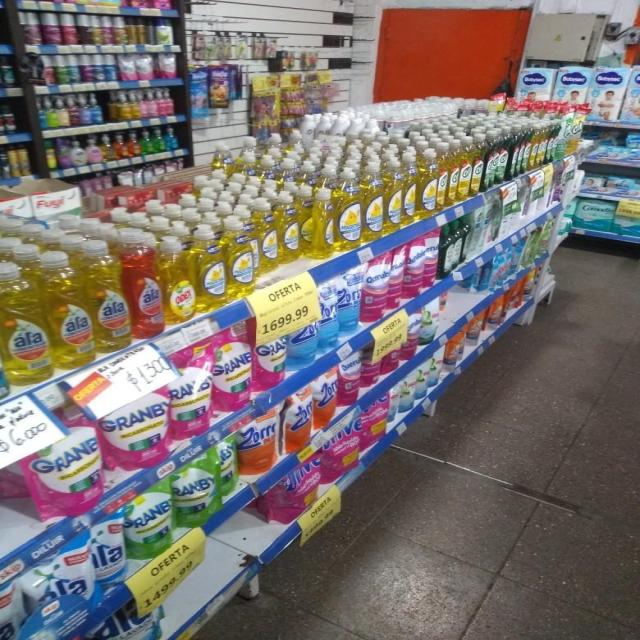ala_conc_amarillo: (0, 258, 49, 388), (51, 248, 93, 370), (92, 239, 130, 353)
ala_conc_rojo: (130, 235, 163, 339)
cif_conc_bot_amarilla: (459, 136, 472, 201), (438, 143, 449, 209), (472, 135, 484, 195), (448, 139, 458, 205)
cif_conc_botella_verde: (491, 128, 508, 186)
magistral_con_amarillo: (196, 224, 226, 311), (227, 216, 254, 296), (336, 165, 361, 250), (362, 159, 384, 239), (278, 192, 300, 264), (312, 188, 334, 258), (257, 200, 277, 274), (384, 154, 402, 232), (418, 148, 437, 216), (402, 150, 418, 223)
